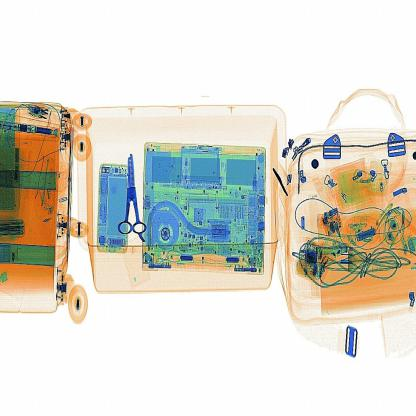gun: (110, 149, 148, 248)
